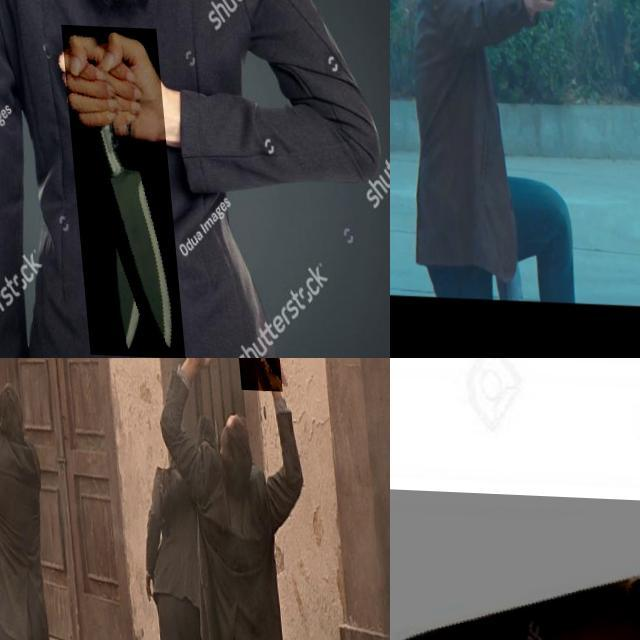-: (58, 23, 176, 356), (390, 484, 640, 640)
gun-knife-thesis - v11 Yolov5 augmented: (231, 358, 279, 413), (526, 0, 566, 32), (0, 358, 17, 407)
